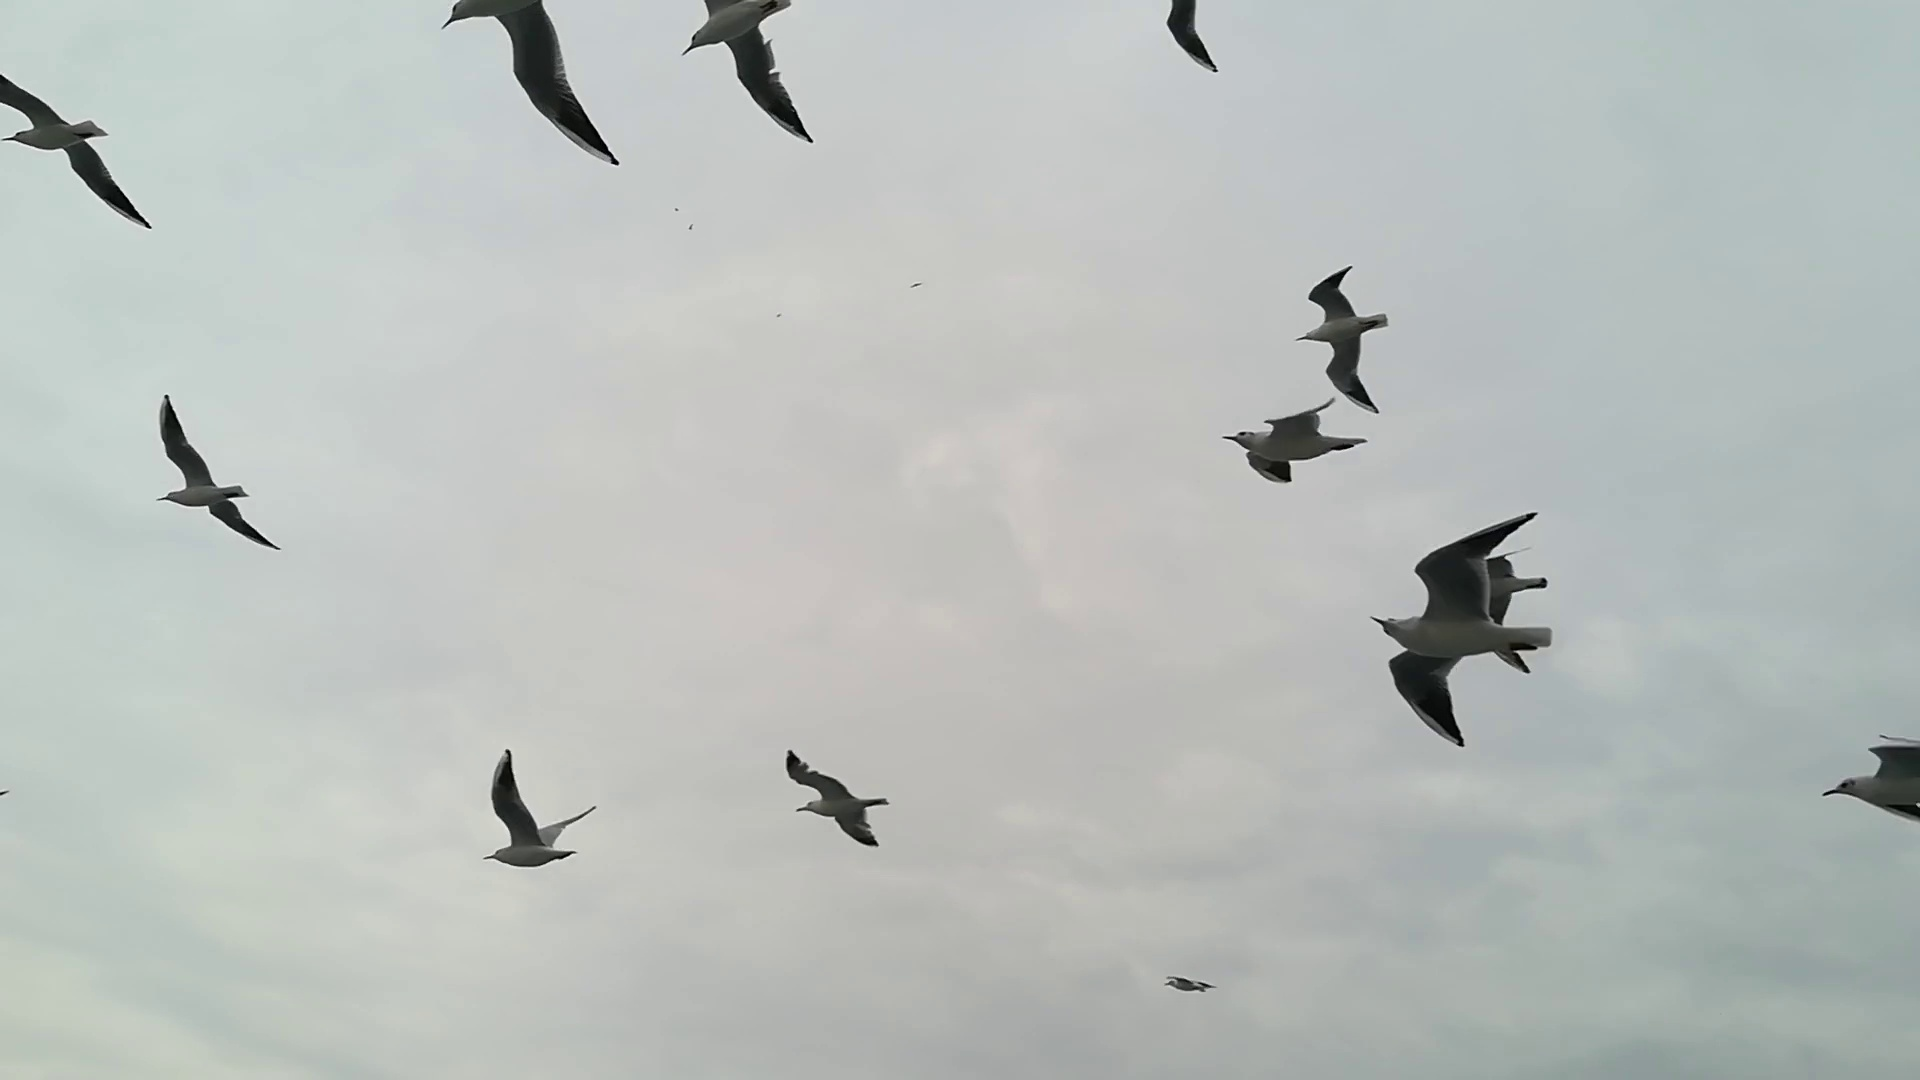bird: (1375, 512, 1542, 748), (443, 1, 618, 167), (1, 71, 150, 228), (679, 1, 814, 145), (154, 394, 274, 549), (1294, 268, 1390, 415), (484, 748, 595, 869), (1224, 400, 1365, 483), (783, 748, 886, 851), (1821, 737, 1920, 825), (1164, 0, 1218, 73), (1164, 969, 1212, 996)
